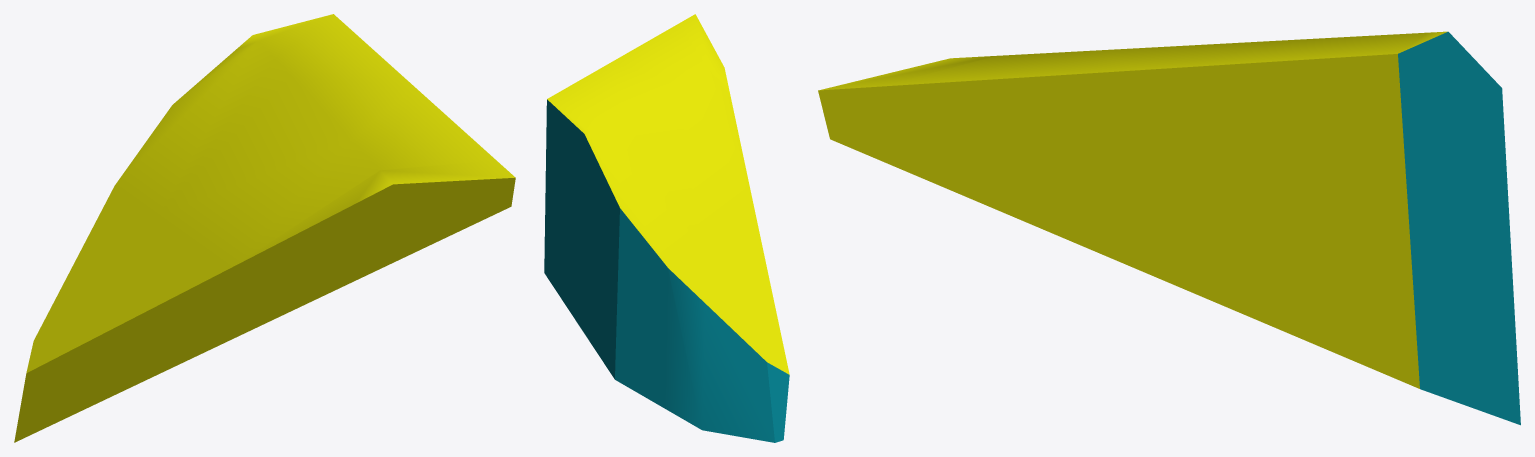
The picture shows the model from 3 angles, left to right: view 1: azimuth 30°, elevation 25°; view 2: azimuth 150°, elevation 25°; view 3: azimuth 270°, elevation 25°; orthographic projection. The views are drawn at different scales.
Visible parts, largest first — view 1: polySurface28; view 2: polySurface28; view 3: polySurface28.
Boxes of the visible parts, <box> form: polySurface28: <box>14,14,515,442</box>; polySurface28: <box>544,14,789,442</box>; polySurface28: <box>818,31,1520,425</box>.
Size of the model in its own units: 0.3348 by 0.3682 by 0.4204.
